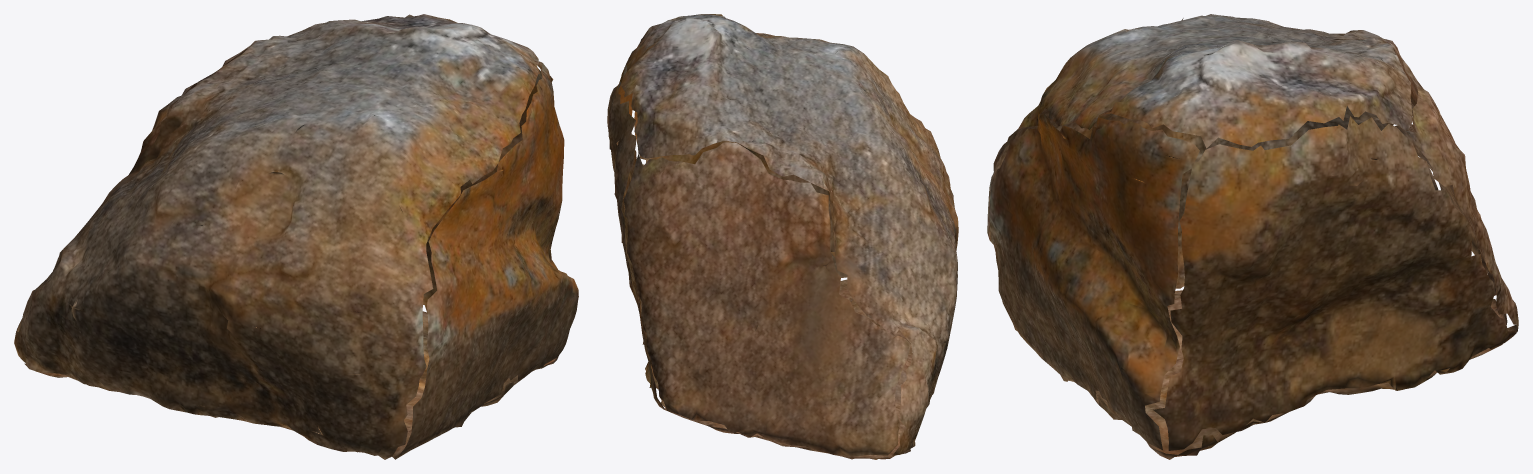
The model's file is boulder-b.glb.
3 views of the same model, side by side, from view 1: azimuth 30°, elevation 25°; view 2: azimuth 150°, elevation 25°; view 3: azimuth 270°, elevation 25° (orthographic). The views are drawn at different scales.
Parts seen in each view (by area): view 1: boulder_04; view 2: boulder_04; view 3: boulder_04.
Part boxes in pixels (<box>): boulder_04: <box>14,14,578,459</box>; boulder_04: <box>607,14,958,459</box>; boulder_04: <box>987,14,1518,459</box>.
Size of the model in its own units: 2.51 by 1.88 by 2.48.
1 material, 1 textured.
